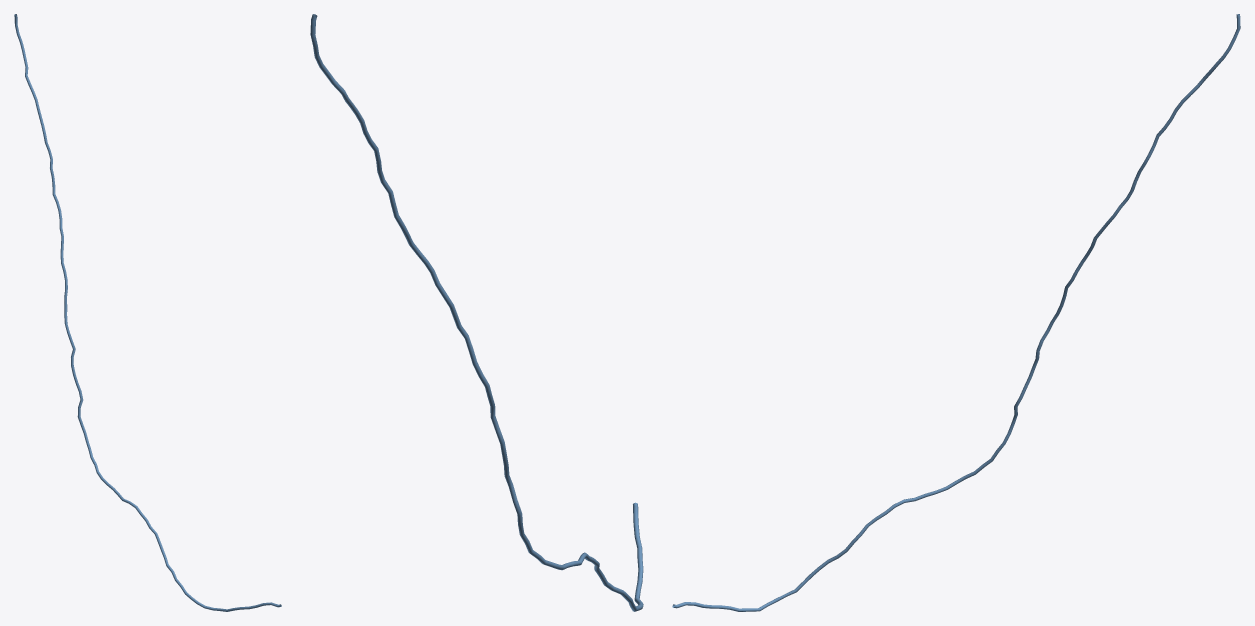
Rendered from sweep221.fbx.
3 renders of one model, left to right at view 1: azimuth 30°, elevation 25°; view 2: azimuth 150°, elevation 25°; view 3: azimuth 270°, elevation 25°, orthographic. The views are drawn at different scales.
Visible parts, largest first — view 1: sweep221; view 2: sweep221; view 3: sweep221.
Part boxes in pixels (x1=…): sweep221: x1=14, y1=14, x2=281, y2=611; sweep221: x1=310, y1=14, x2=643, y2=611; sweep221: x1=672, y1=14, x2=1240, y2=611.
Size of the model in its own units: 0.5778 by 3.57 by 3.11.
